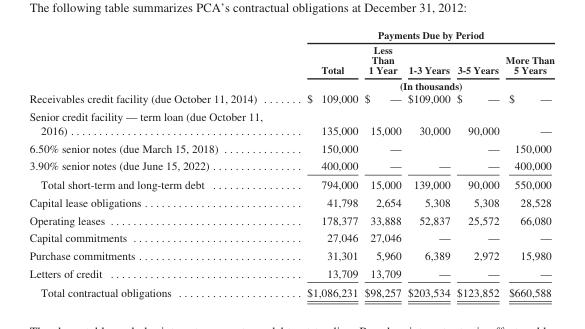table: (28, 28, 553, 298)
table column: (28, 28, 284, 298), (284, 28, 360, 298), (501, 28, 553, 298), (403, 28, 452, 298), (452, 28, 501, 298), (360, 28, 403, 298)
table column header: (28, 28, 553, 91)
table row: (28, 42, 553, 77), (28, 107, 553, 139), (28, 156, 553, 175), (28, 175, 553, 193), (28, 210, 553, 228), (28, 228, 553, 246), (28, 246, 553, 264), (28, 264, 553, 282), (28, 139, 553, 156), (28, 193, 553, 210), (28, 91, 553, 107), (28, 282, 553, 298), (28, 28, 553, 42), (28, 77, 553, 91)
table spanning cell: (284, 28, 553, 42), (284, 77, 553, 91)
